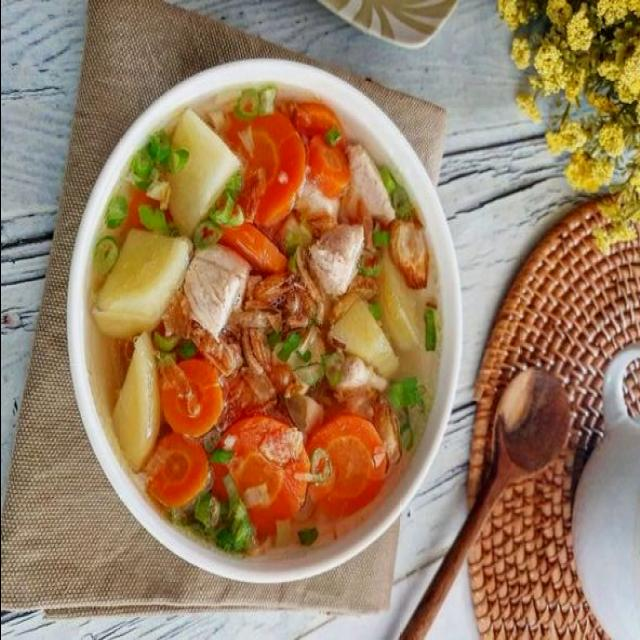sop: (63, 73, 457, 583)
